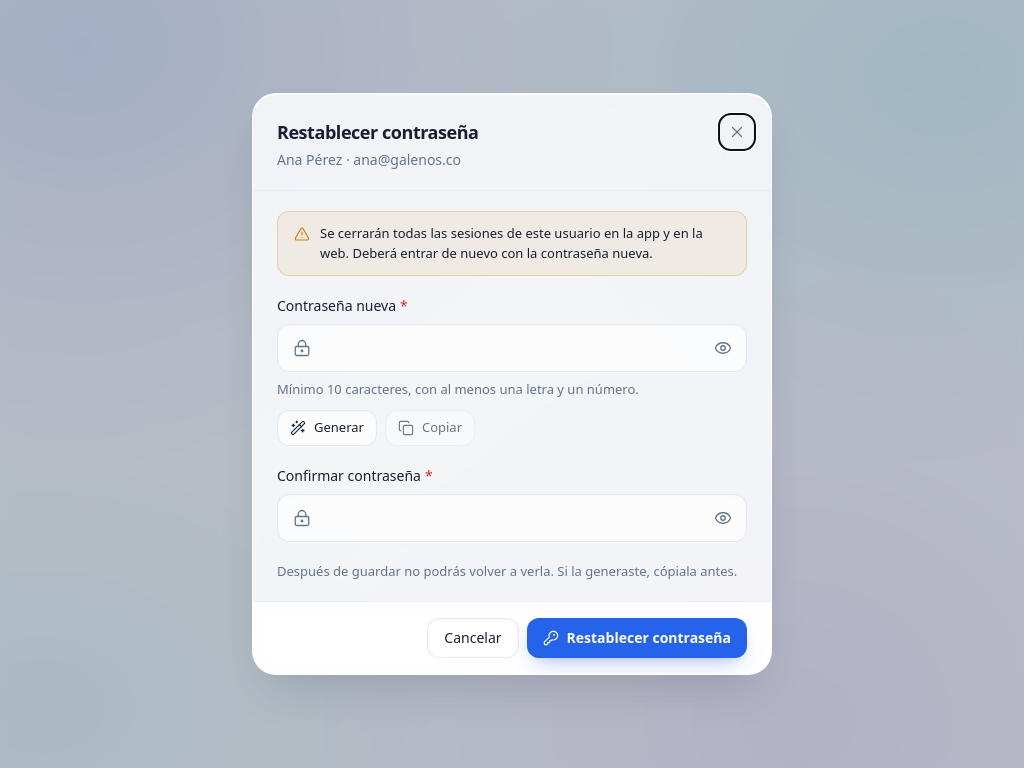
Test: DialogoRestablecerContrasena › valida la política y la confirmación antes de enviar
Type "corta1" into the password field labelled "Contraseña nueva" at (512, 348), box [277,324,747,372]
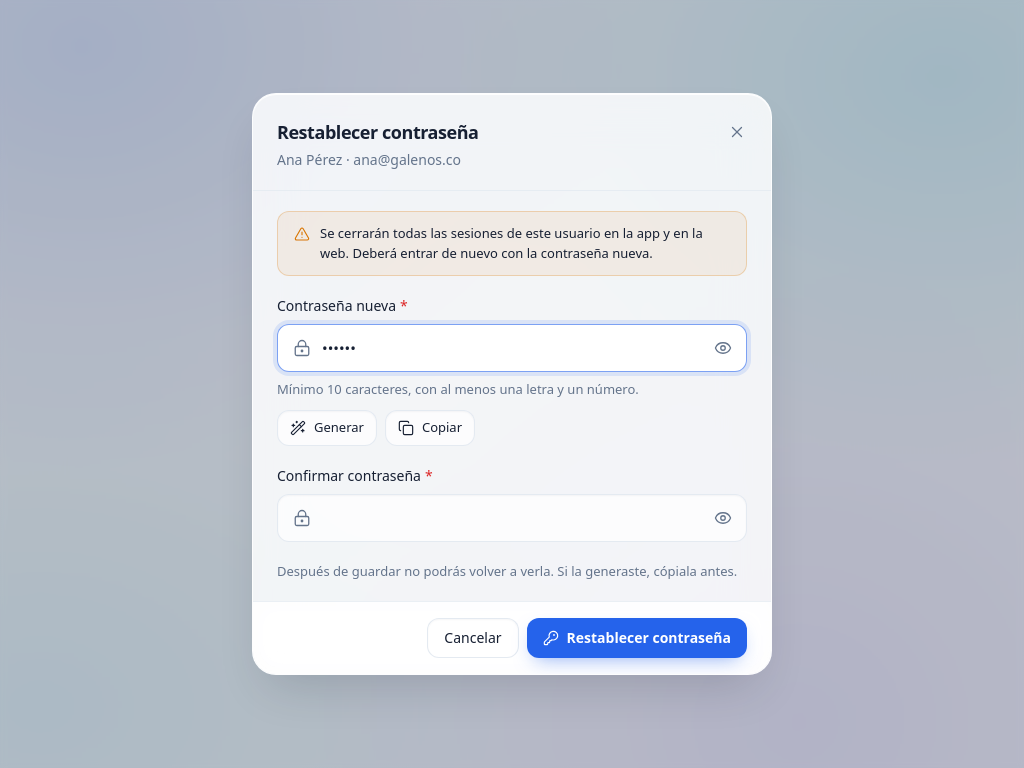
Type "otra" into the password field labelled "Confirmar contraseña" at (512, 518), box [277,494,747,542]
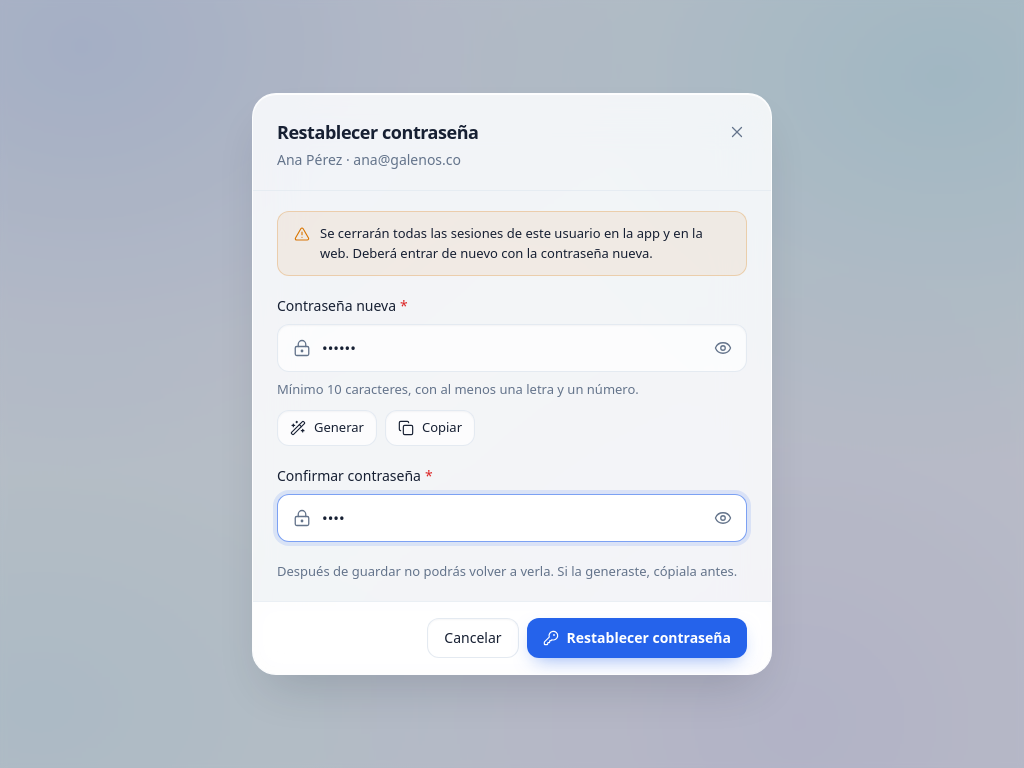
Click the button "Restablecer contraseña" at (637, 638), box [527,618,747,658]
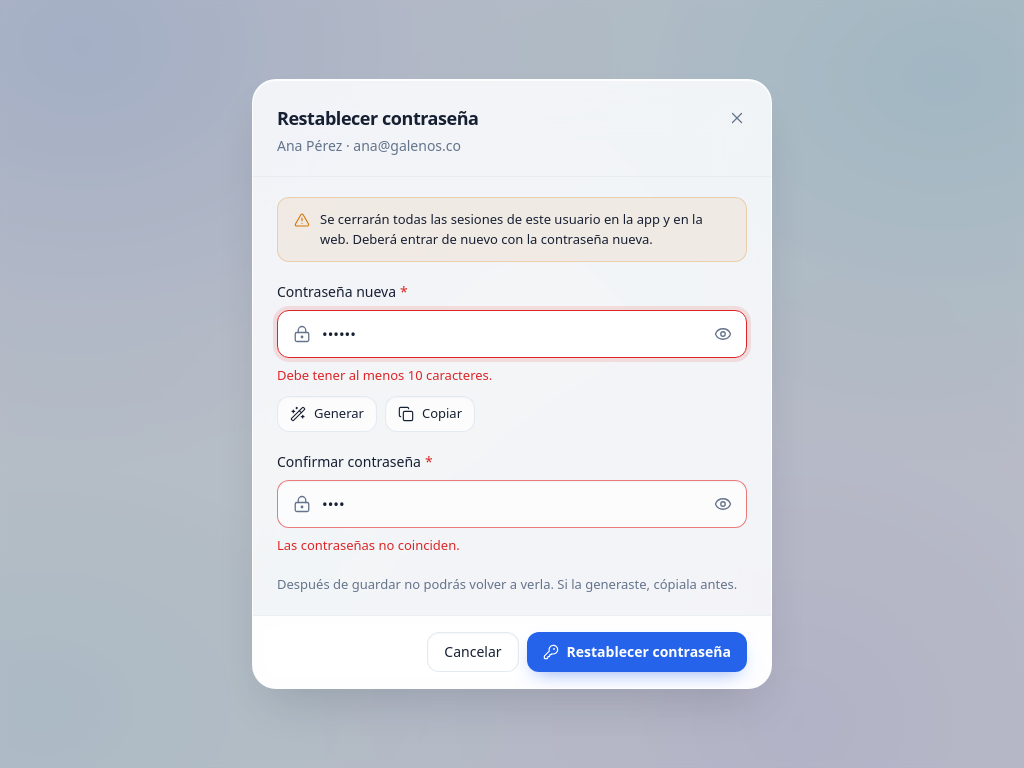
Result: the text "Debe tener al menos 10 caracteres." is shown at [277,366,492,384]
Result: the text "Las contraseñas no coinciden." is shown at [277,536,460,554]
